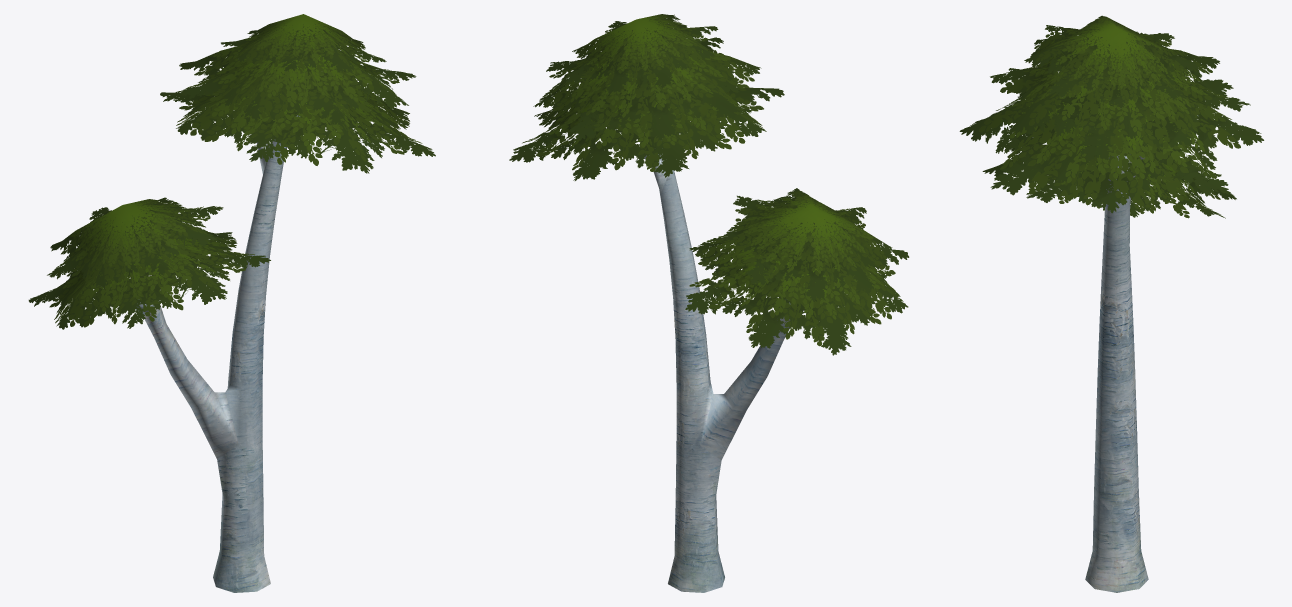
The model's file is Tree_7.fbx.
The picture shows the model from 3 angles, left to right: view 1: azimuth 30°, elevation 25°; view 2: azimuth 150°, elevation 25°; view 3: azimuth 270°, elevation 25°; orthographic projection. The views are drawn at different scales.
Visible parts, largest first — view 1: polySurface194; view 2: polySurface194; view 3: polySurface194.
Boxes of the visible parts, x1,y1,x2,y2 form: polySurface194: (28,14,435,592); polySurface194: (509,14,909,592); polySurface194: (959,15,1264,592).
Bounding box in the file's own units: 454 × 630 × 317.
